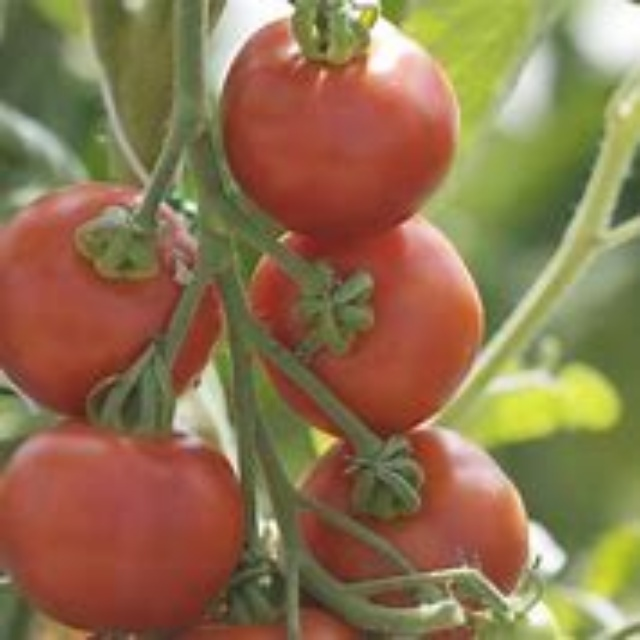tomato: (226, 220, 485, 435), (3, 186, 218, 416), (2, 428, 244, 629), (296, 420, 528, 622), (241, 12, 455, 226)
